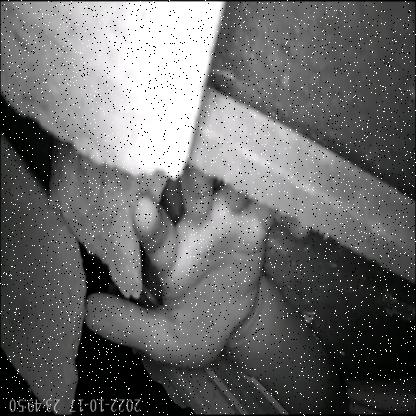hand: (68, 148, 370, 416)
